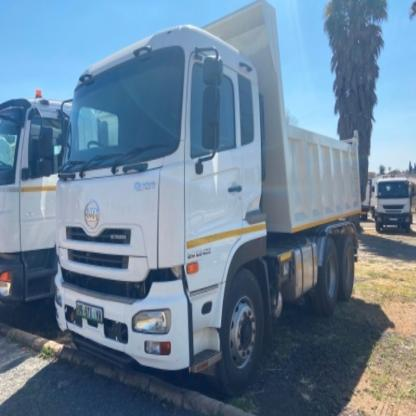dump_truck: (55, 2, 377, 387)
